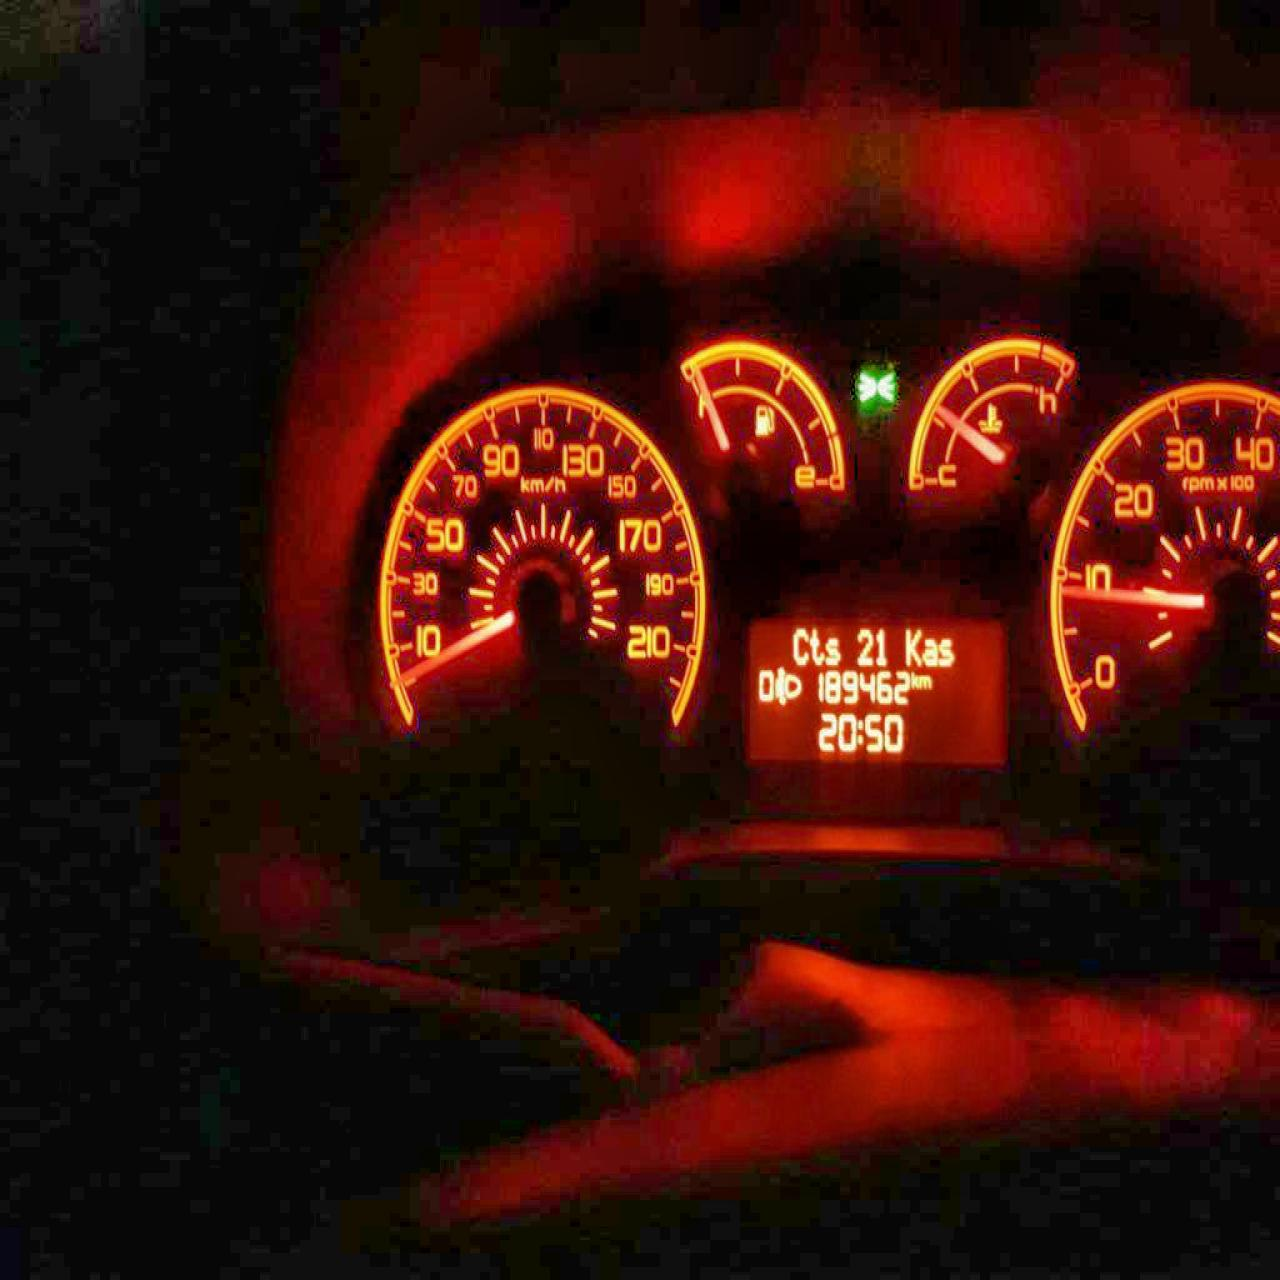0: (882, 712, 904, 753), (836, 712, 856, 752), (756, 666, 774, 702)
1: (874, 625, 886, 667), (815, 670, 823, 702)
2: (816, 710, 836, 752), (855, 625, 873, 665), (892, 668, 910, 705)
4: (857, 670, 875, 703)
5: (864, 712, 882, 752)
6: (875, 668, 893, 704)
8: (822, 668, 840, 704)
9: (842, 668, 858, 704)
X: (904, 625, 922, 667), (791, 625, 809, 665), (808, 625, 824, 665), (822, 635, 842, 665), (937, 636, 955, 666), (922, 635, 938, 667), (918, 672, 932, 690), (855, 717, 863, 745), (910, 670, 918, 690)
odometer: (744, 612, 1008, 768)
